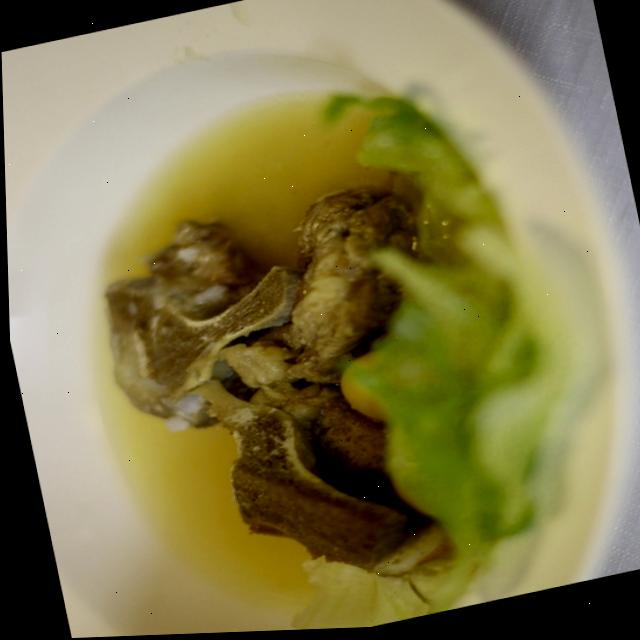汤锅炖物: (25, 44, 580, 639)
